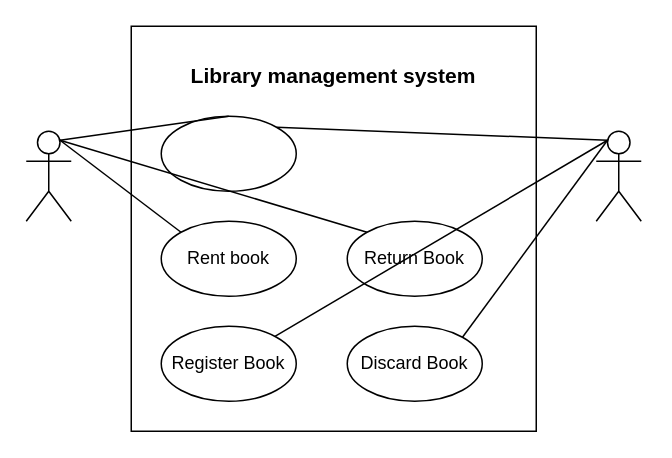
Some shapes in this 672 by 458 pixel diagram are drawn without their labels. Each missing label, with the box of its shape:
Library: (595, 130, 641, 221)
register user: (160, 115, 296, 191)
User: (25, 130, 71, 221)
